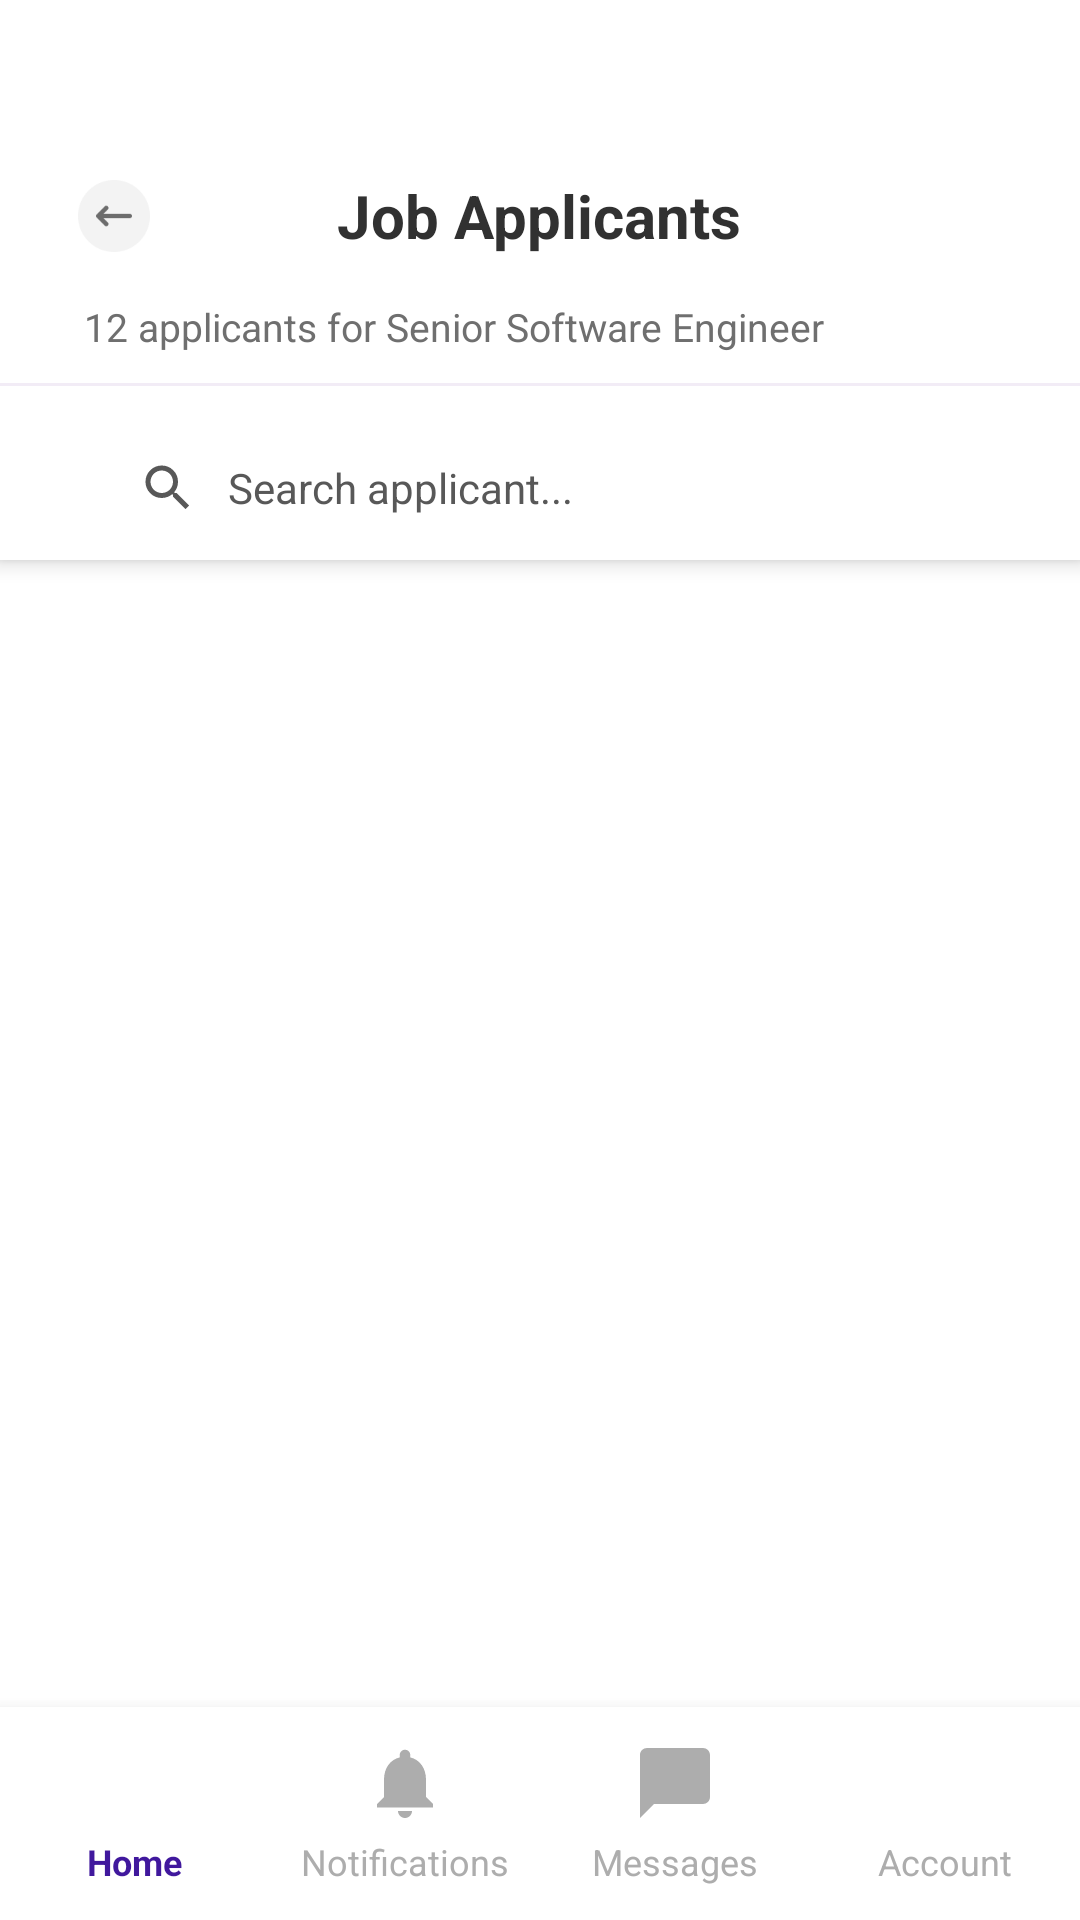

Screen size 1080w x 1920h. Icon name, then its center in pixels as [x,y]:
Back: [114,216]
